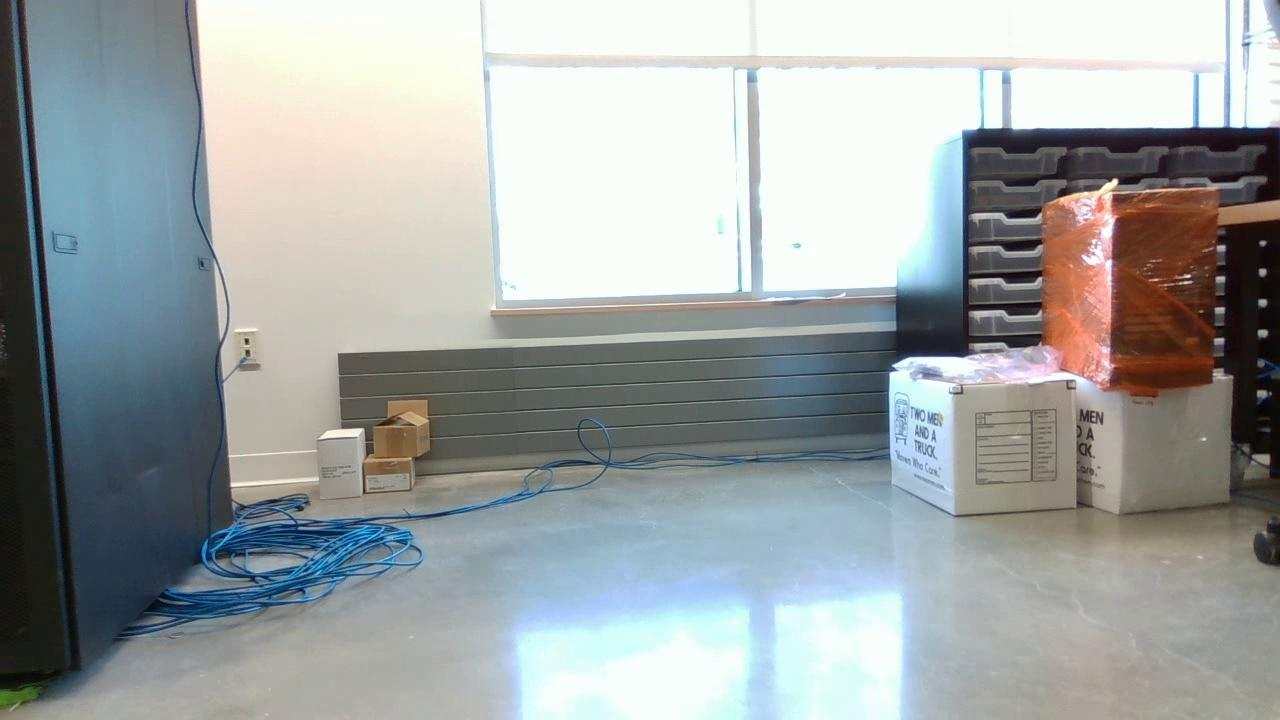grasshopper: (1, 682, 48, 715)
